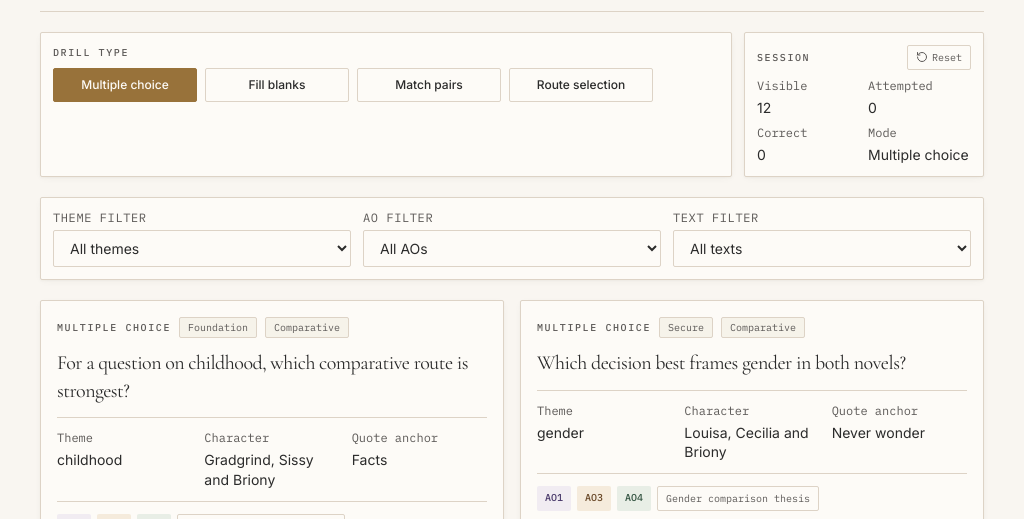
Test: RapidRecall › shows the timed paragraph drill action only after a timed route plan is opened
The width and height of the screenshot is (1024, 519).
Expected: the button "Start timed paragraph drill" is not shown
What coordinates should you click on to do the following:
click the tab "Route selection"
I would click on:
 (581, 85)
Its box is [509, 68, 653, 102].
(page scrolled)
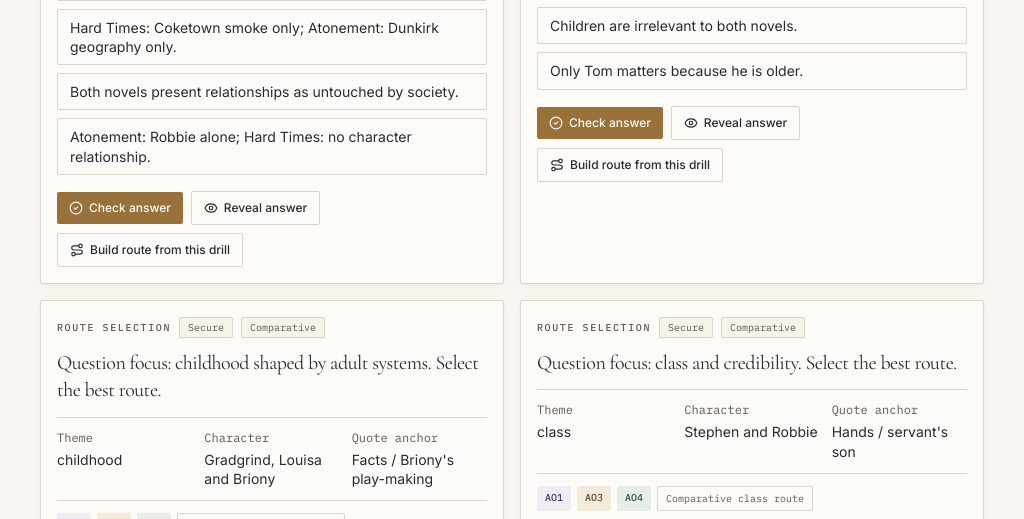
What coordinates should you click on to do the following:
click the button named "Build route from this drill for Question focus: relationships damaged by misunderstanding"
I would click on:
 (150, 250)
Its box is [57, 233, 243, 267].
(page scrolled)
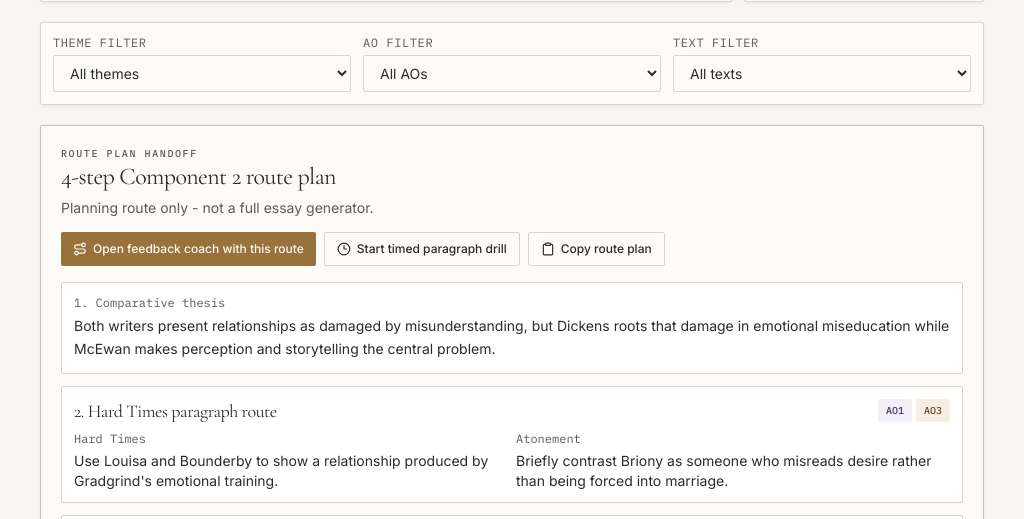
Result: the button "Start timed paragraph drill" is shown at [324, 232, 520, 266]
